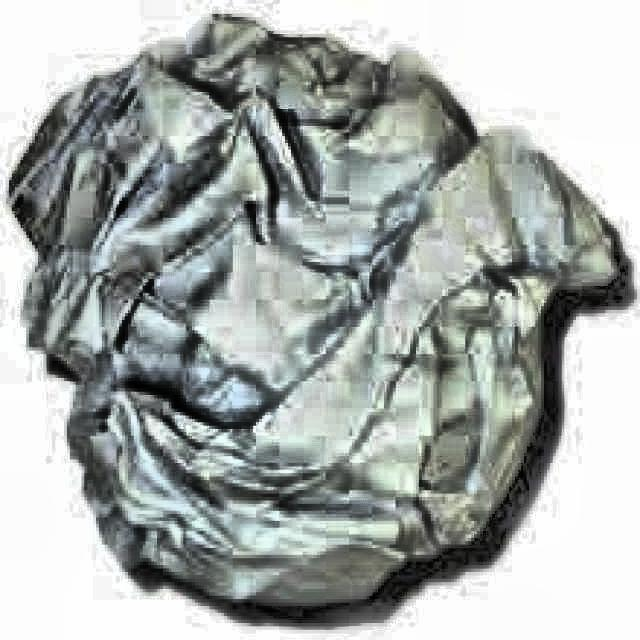Paper: (0, 7, 614, 602)
